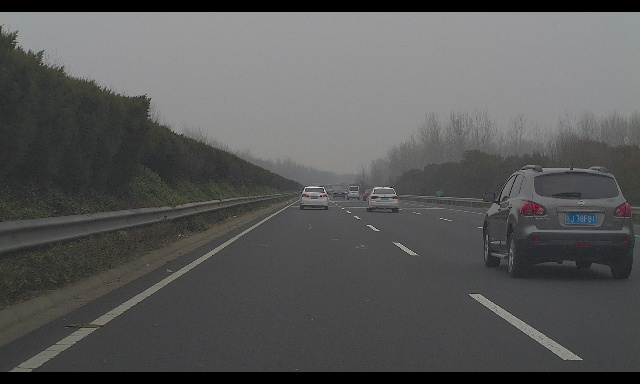car: (483, 165, 634, 279), (366, 187, 399, 212), (300, 186, 330, 210), (347, 186, 360, 200), (363, 189, 375, 201), (333, 189, 345, 198), (344, 189, 351, 195), (325, 190, 332, 195)
